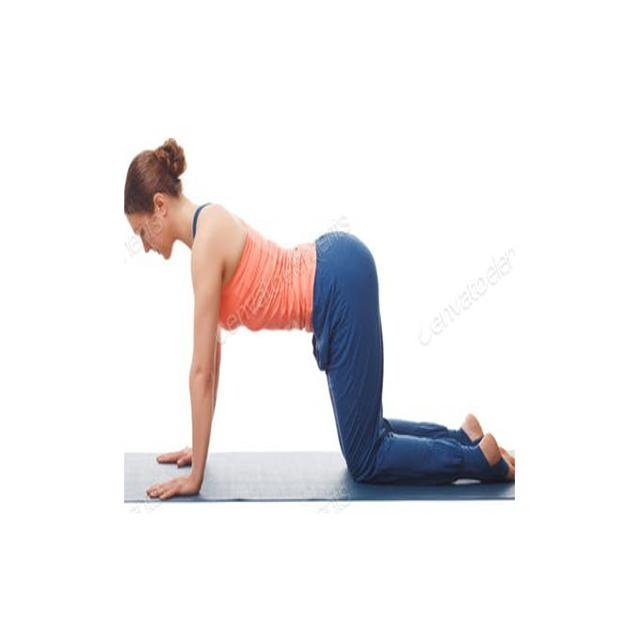Cow_Pose: (124, 150, 515, 501)
